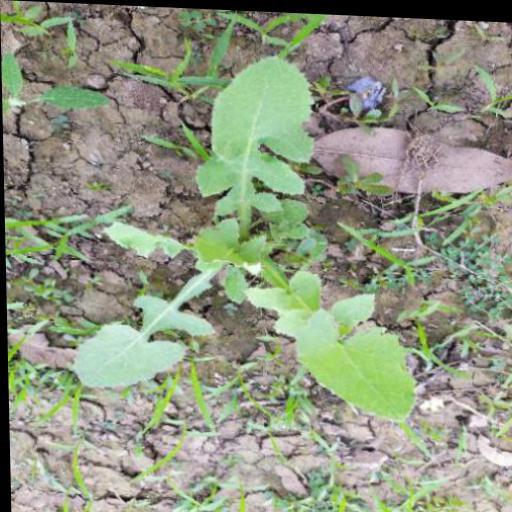crop: (68, 46, 413, 417), (433, 206, 512, 330), (272, 479, 458, 512), (6, 347, 59, 409)
